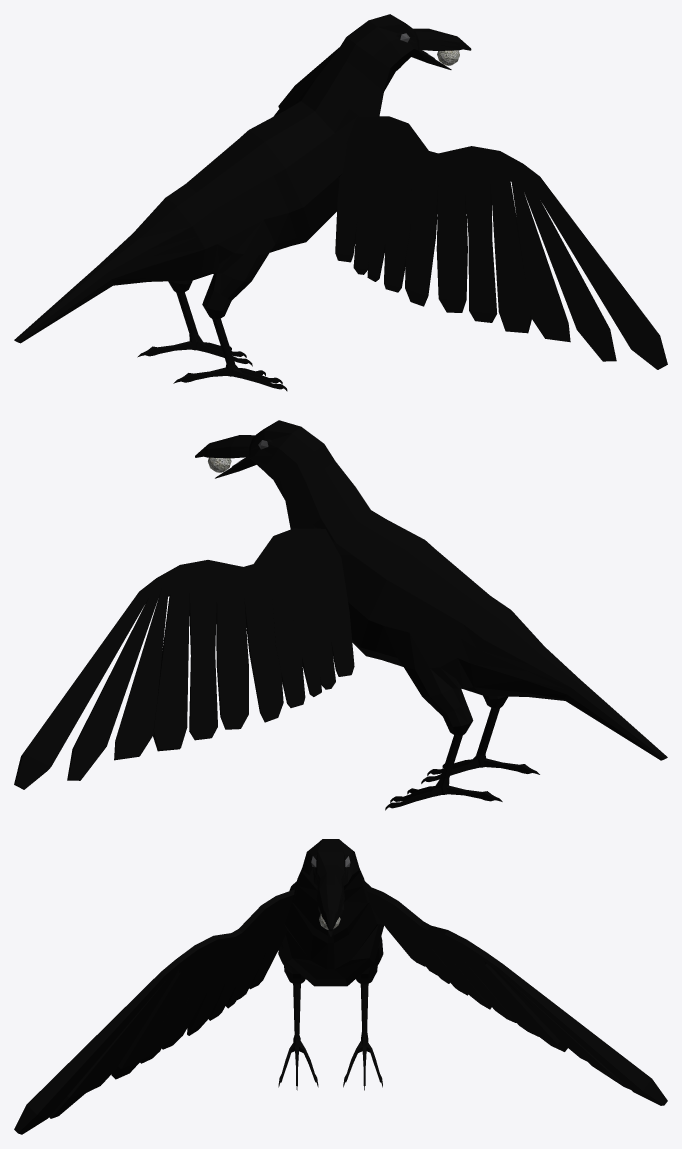
Rendered from crow_full_down_wings_stone.obj.
3 views of the same model, one above another, from view 1: azimuth 30°, elevation 25°; view 2: azimuth 150°, elevation 25°; view 3: azimuth 270°, elevation 25° (orthographic). The views are drawn at different scales.
Parts seen in each view (by area): view 1: Cylinder.001; view 2: Cylinder.001; view 3: Cylinder.001.
Part boxes in pixels (left/top/right/bottom): Cylinder.001: left=14, top=14, right=667, bottom=391; Cylinder.001: left=14, top=420, right=667, bottom=810; Cylinder.001: left=14, top=839, right=667, bottom=1134.
Bounding box in the file's own units: 1.63 × 1.02 × 2.
